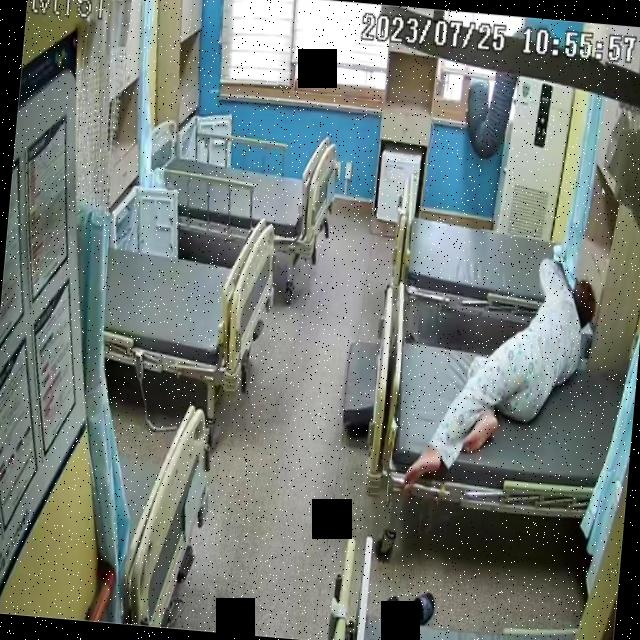bed: (381, 333, 629, 528), (95, 204, 282, 396), (142, 118, 337, 255), (390, 190, 580, 326)
danger: (400, 248, 600, 508)
patient: (401, 246, 600, 506)
